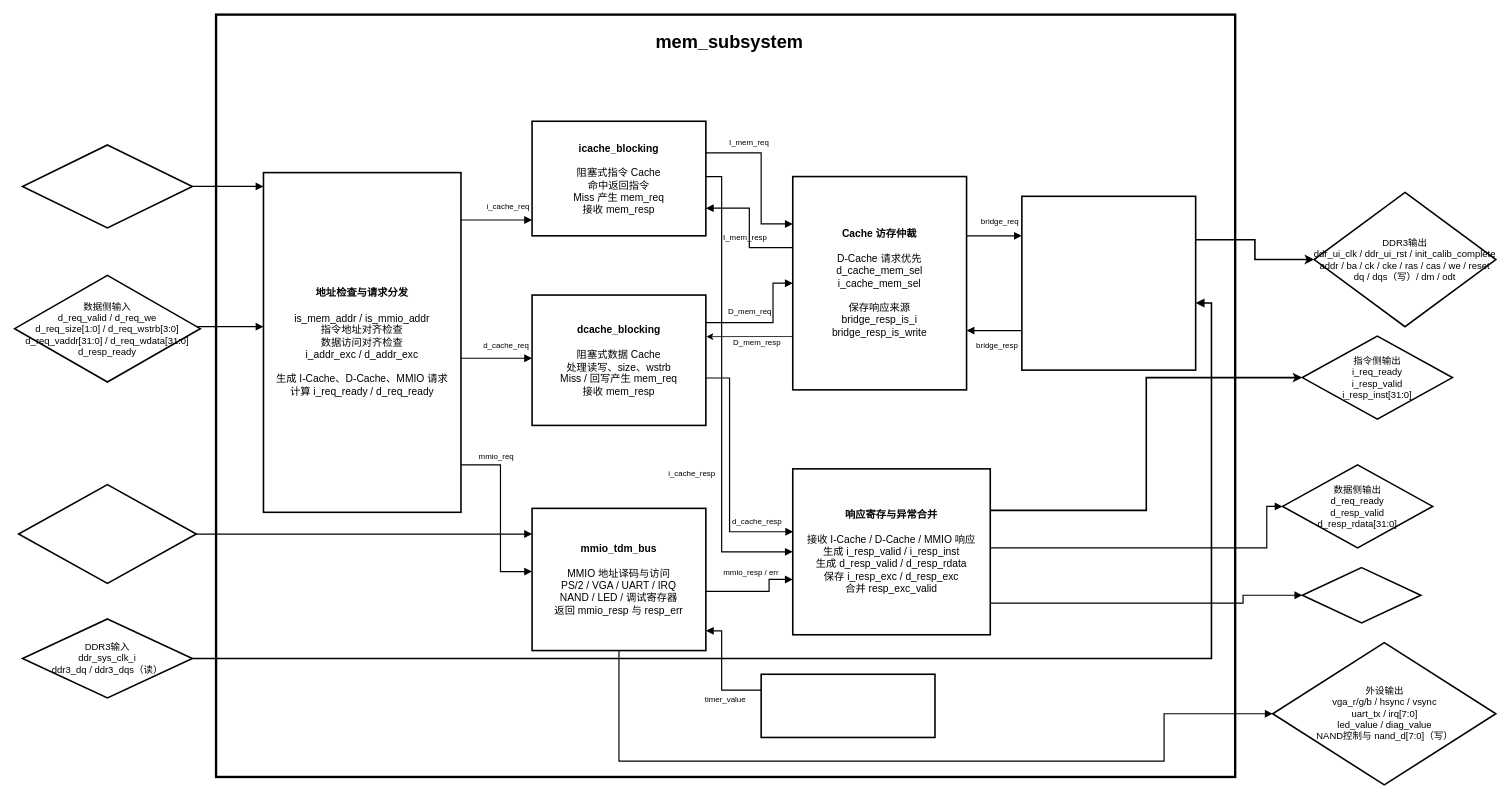
Some shapes in this 1510 by 799 pixel diagram are drawn without their labels. Here are the shapes that lost their labels. From the top down, the centre of each, then its label:
[107,186]: 指令侧输入 i_req_valid i_req_vaddr[31:0] i_resp_ready
[1108,283]: ddr3_mig_bridge CPU 请求/响应接口 DDR3 MIG 用户接口 完成地址、写掩码与数据转换
[107,533]: 外设输入 ps2_clk / ps2_dat / vga_clk uart_rx / nand_rdy nand_d[7:0]（读）
[1361,594]: 异常输出 resp_exc_valid
[847,705]: 32 位定时器 timer = timer + 1 向 MMIO 提供 timer_value
